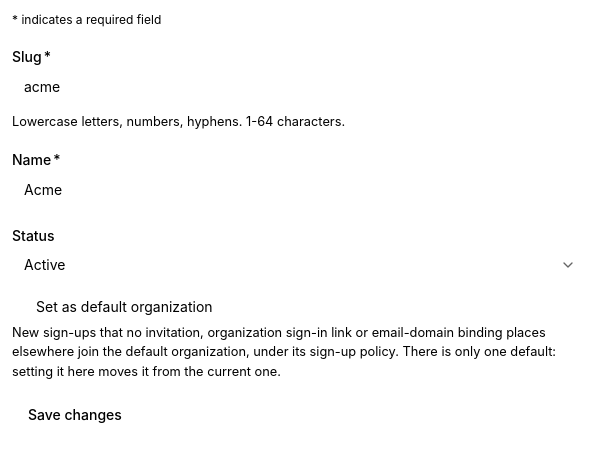
Test: organization Settings form: If-Match (F-39) › sends the page's tag as If-Match on the PATCH
Type " Corp" into the field labelled "Name*" at (300, 189), box 12,171 -> 588,207
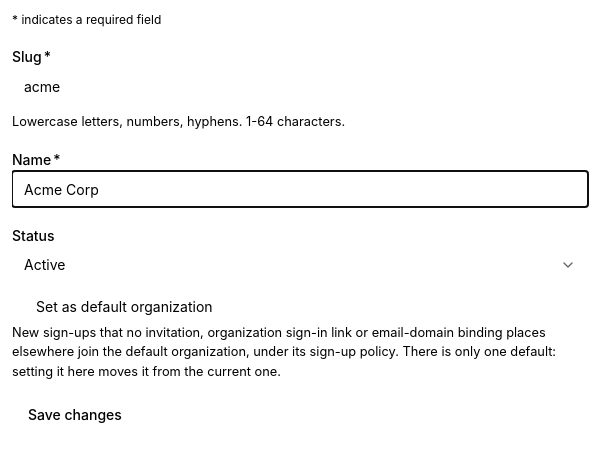
Click the button "Save changes" at (75, 415), box 12,397 -> 138,433
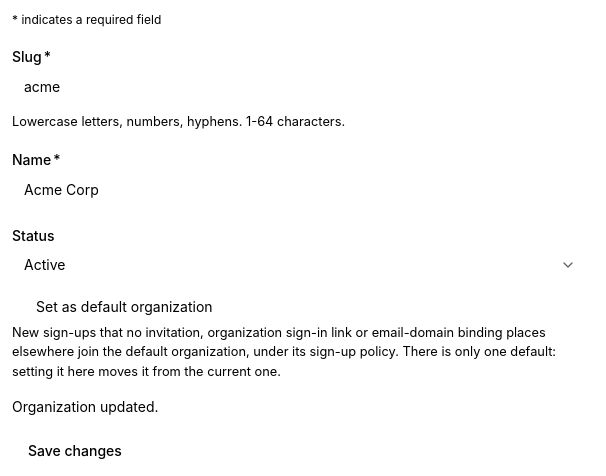
Check: the message reads "Organization updated.", box 12,398 -> 158,415
